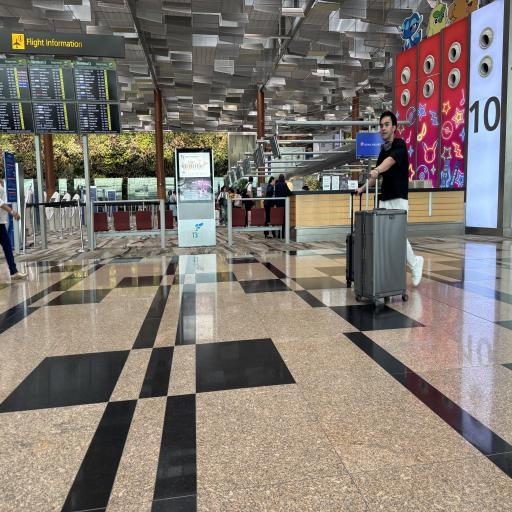person_with_luggage_left: (348, 98, 426, 304)
